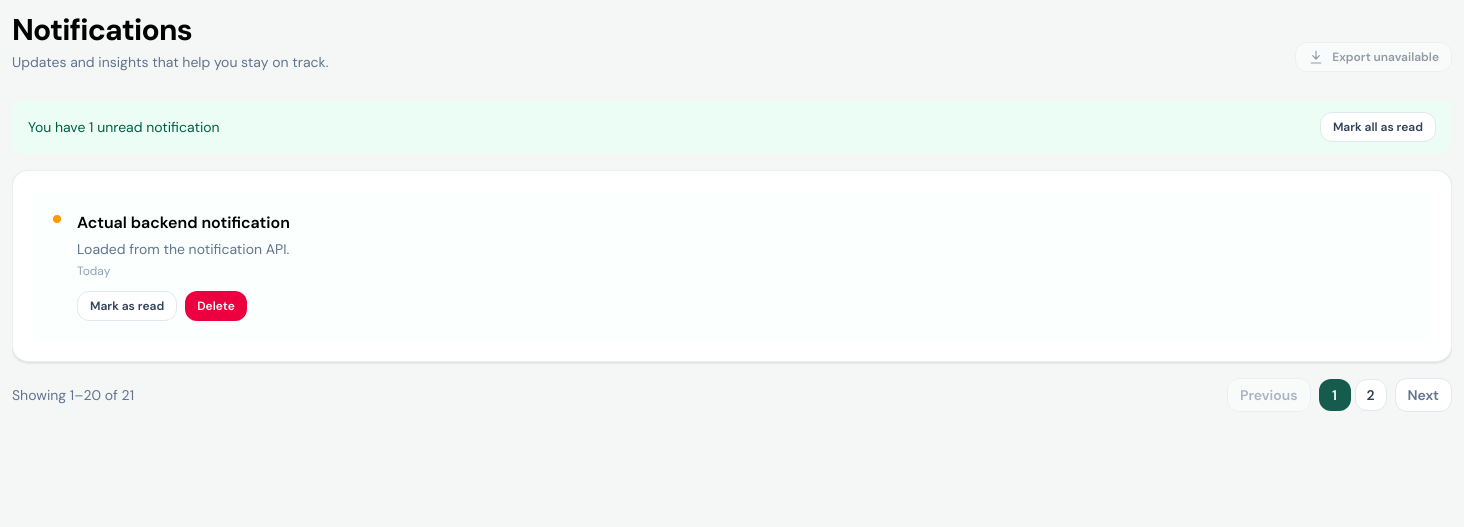
ClientNotifications › shows mutation errors without changing the displayed notification
This screenshot has width=1464, height=527.
Click the button "Mark as read" at [127, 306], box x1=77 y1=291 x2=177 y2=321
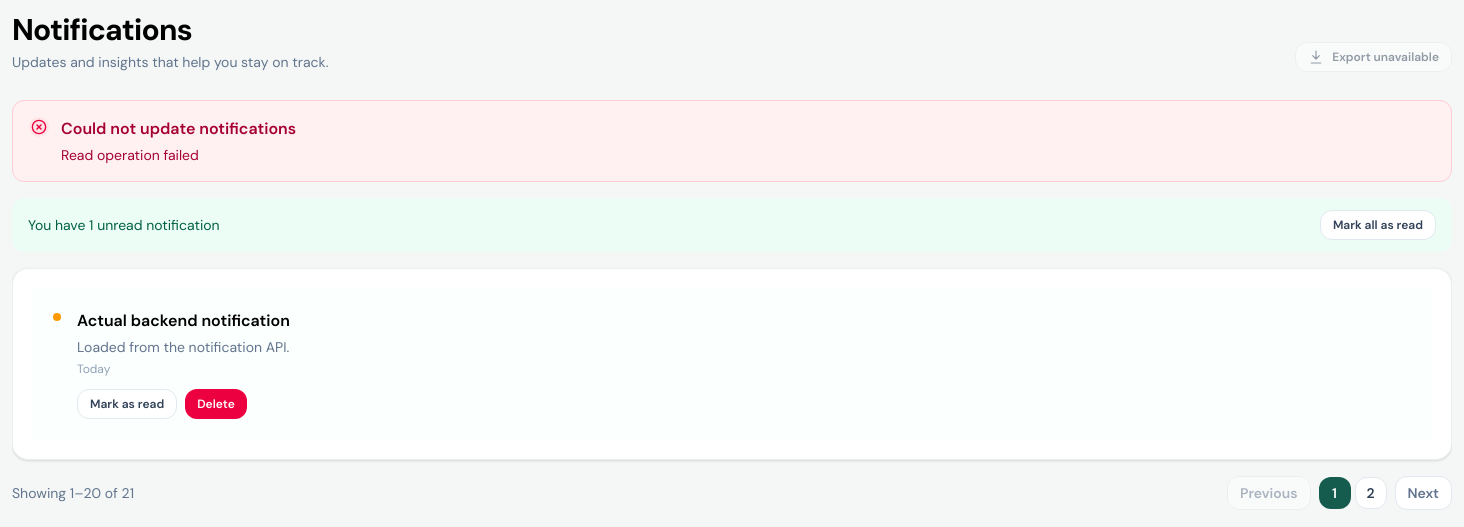
Check: the text "Actual backend notification" is shown, box x1=77 y1=310 x2=290 y2=331
Check: the text "Read operation failed" is shown, box x1=61 y1=146 x2=199 y2=164
